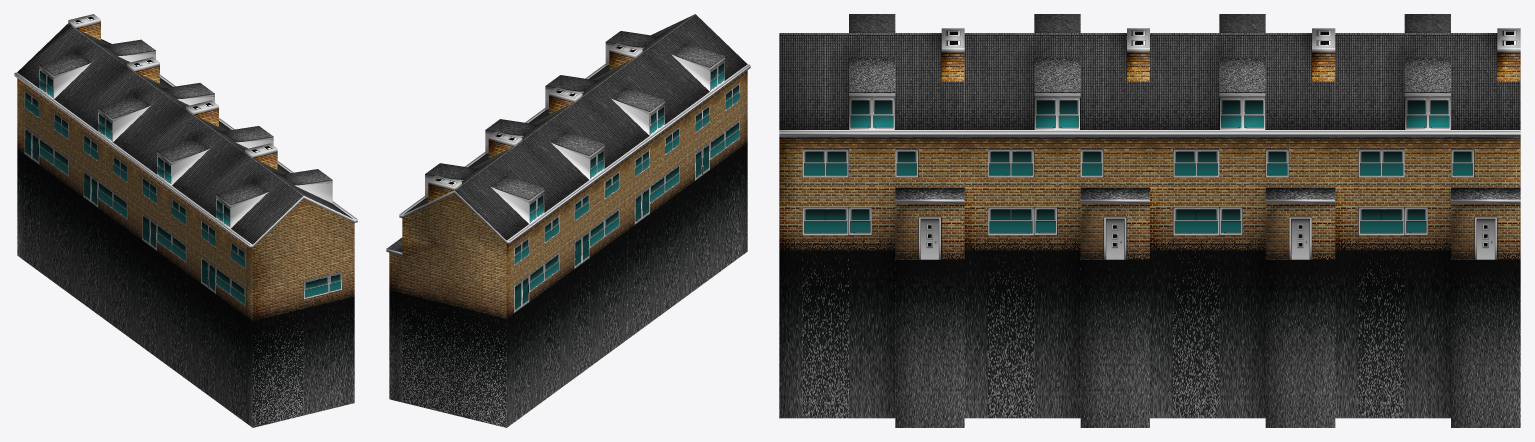
Rendered from doorzon_mod2_3b.fbx.
3 views of the same model, side by side, from view 1: azimuth 30°, elevation 25°; view 2: azimuth 150°, elevation 25°; view 3: azimuth 270°, elevation 25° (orthographic). The views are drawn at different scales.
Visible parts, largest first — view 1: doorzon_mod2_3b; view 2: doorzon_mod2_3b; view 3: doorzon_mod2_3b.
Boxes of the visible parts, x1,y1,x2,y2 form: doorzon_mod2_3b: (14,14,357,427); doorzon_mod2_3b: (386,14,750,427); doorzon_mod2_3b: (779,14,1520,427).
Size of the model in its own units: 1062 by 1879 by 3600.
